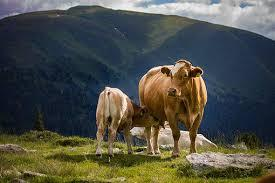cow: (139, 60, 208, 156), (95, 87, 160, 157)
